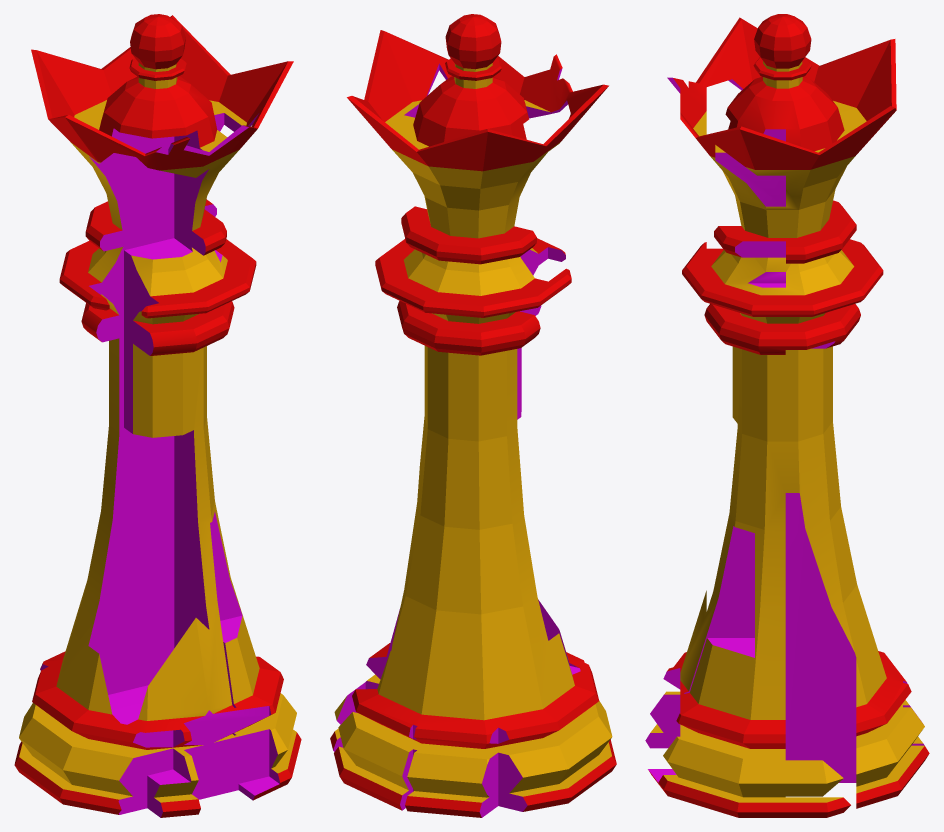
Rendered from Queen_Glitch.fbx.
The picture shows the model from 3 angles, left to right: view 1: azimuth 30°, elevation 25°; view 2: azimuth 150°, elevation 25°; view 3: azimuth 270°, elevation 25°; orthographic projection.
Visible parts, largest first — view 1: QueenLow_Glitch; view 2: QueenLow_Glitch; view 3: QueenLow_Glitch.
Part boxes in pixels (x1,y1,x2,y2): QueenLow_Glitch: (14, 14, 301, 817); QueenLow_Glitch: (330, 14, 616, 817); QueenLow_Glitch: (645, 14, 929, 817).
Bounding box in the file's own units: 0.8345 × 2.45 × 0.8484.
